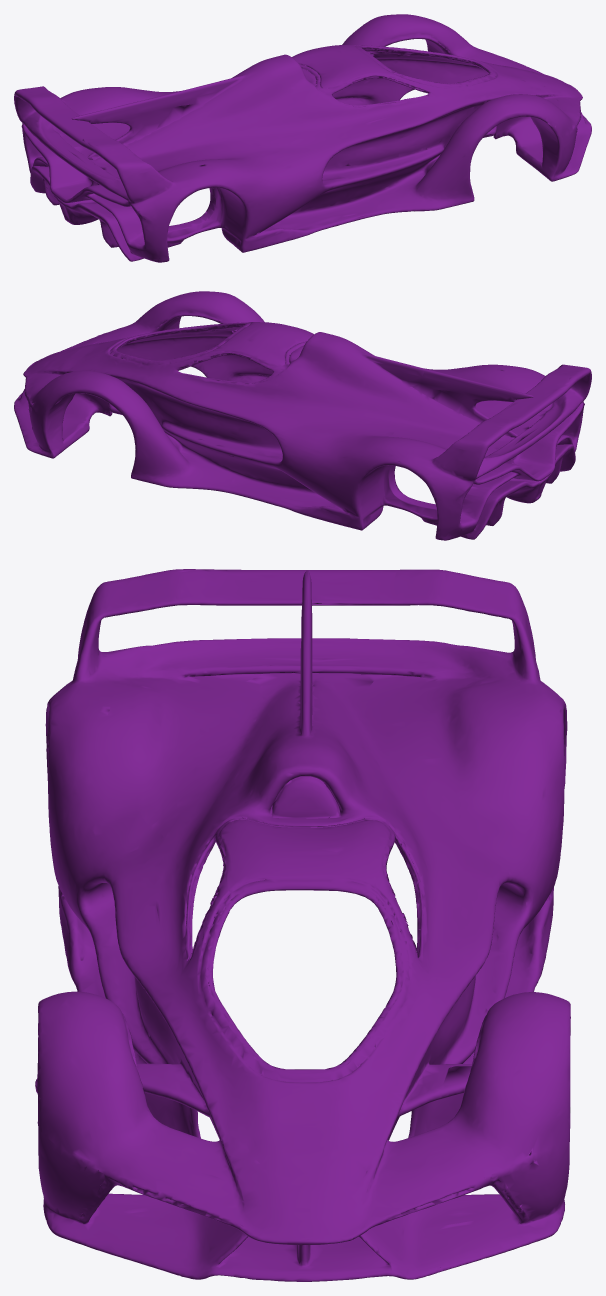
The model's file is auto.glb.
The picture shows the model from 3 angles, top to bottom: view 1: azimuth 30°, elevation 25°; view 2: azimuth 150°, elevation 25°; view 3: azimuth 270°, elevation 25°; orthographic projection. The views are drawn at different scales.
Visible parts, largest first — view 1: aetherium_fino_0; view 2: aetherium_fino_0; view 3: aetherium_fino_0.
Part boxes in pixels (x1,y1,x2,y2): aetherium_fino_0: [14, 14, 591, 262]; aetherium_fino_0: [14, 291, 591, 540]; aetherium_fino_0: [35, 569, 570, 1281].
Bounding box in the file's own units: 3 × 0.6997 × 1.35.
